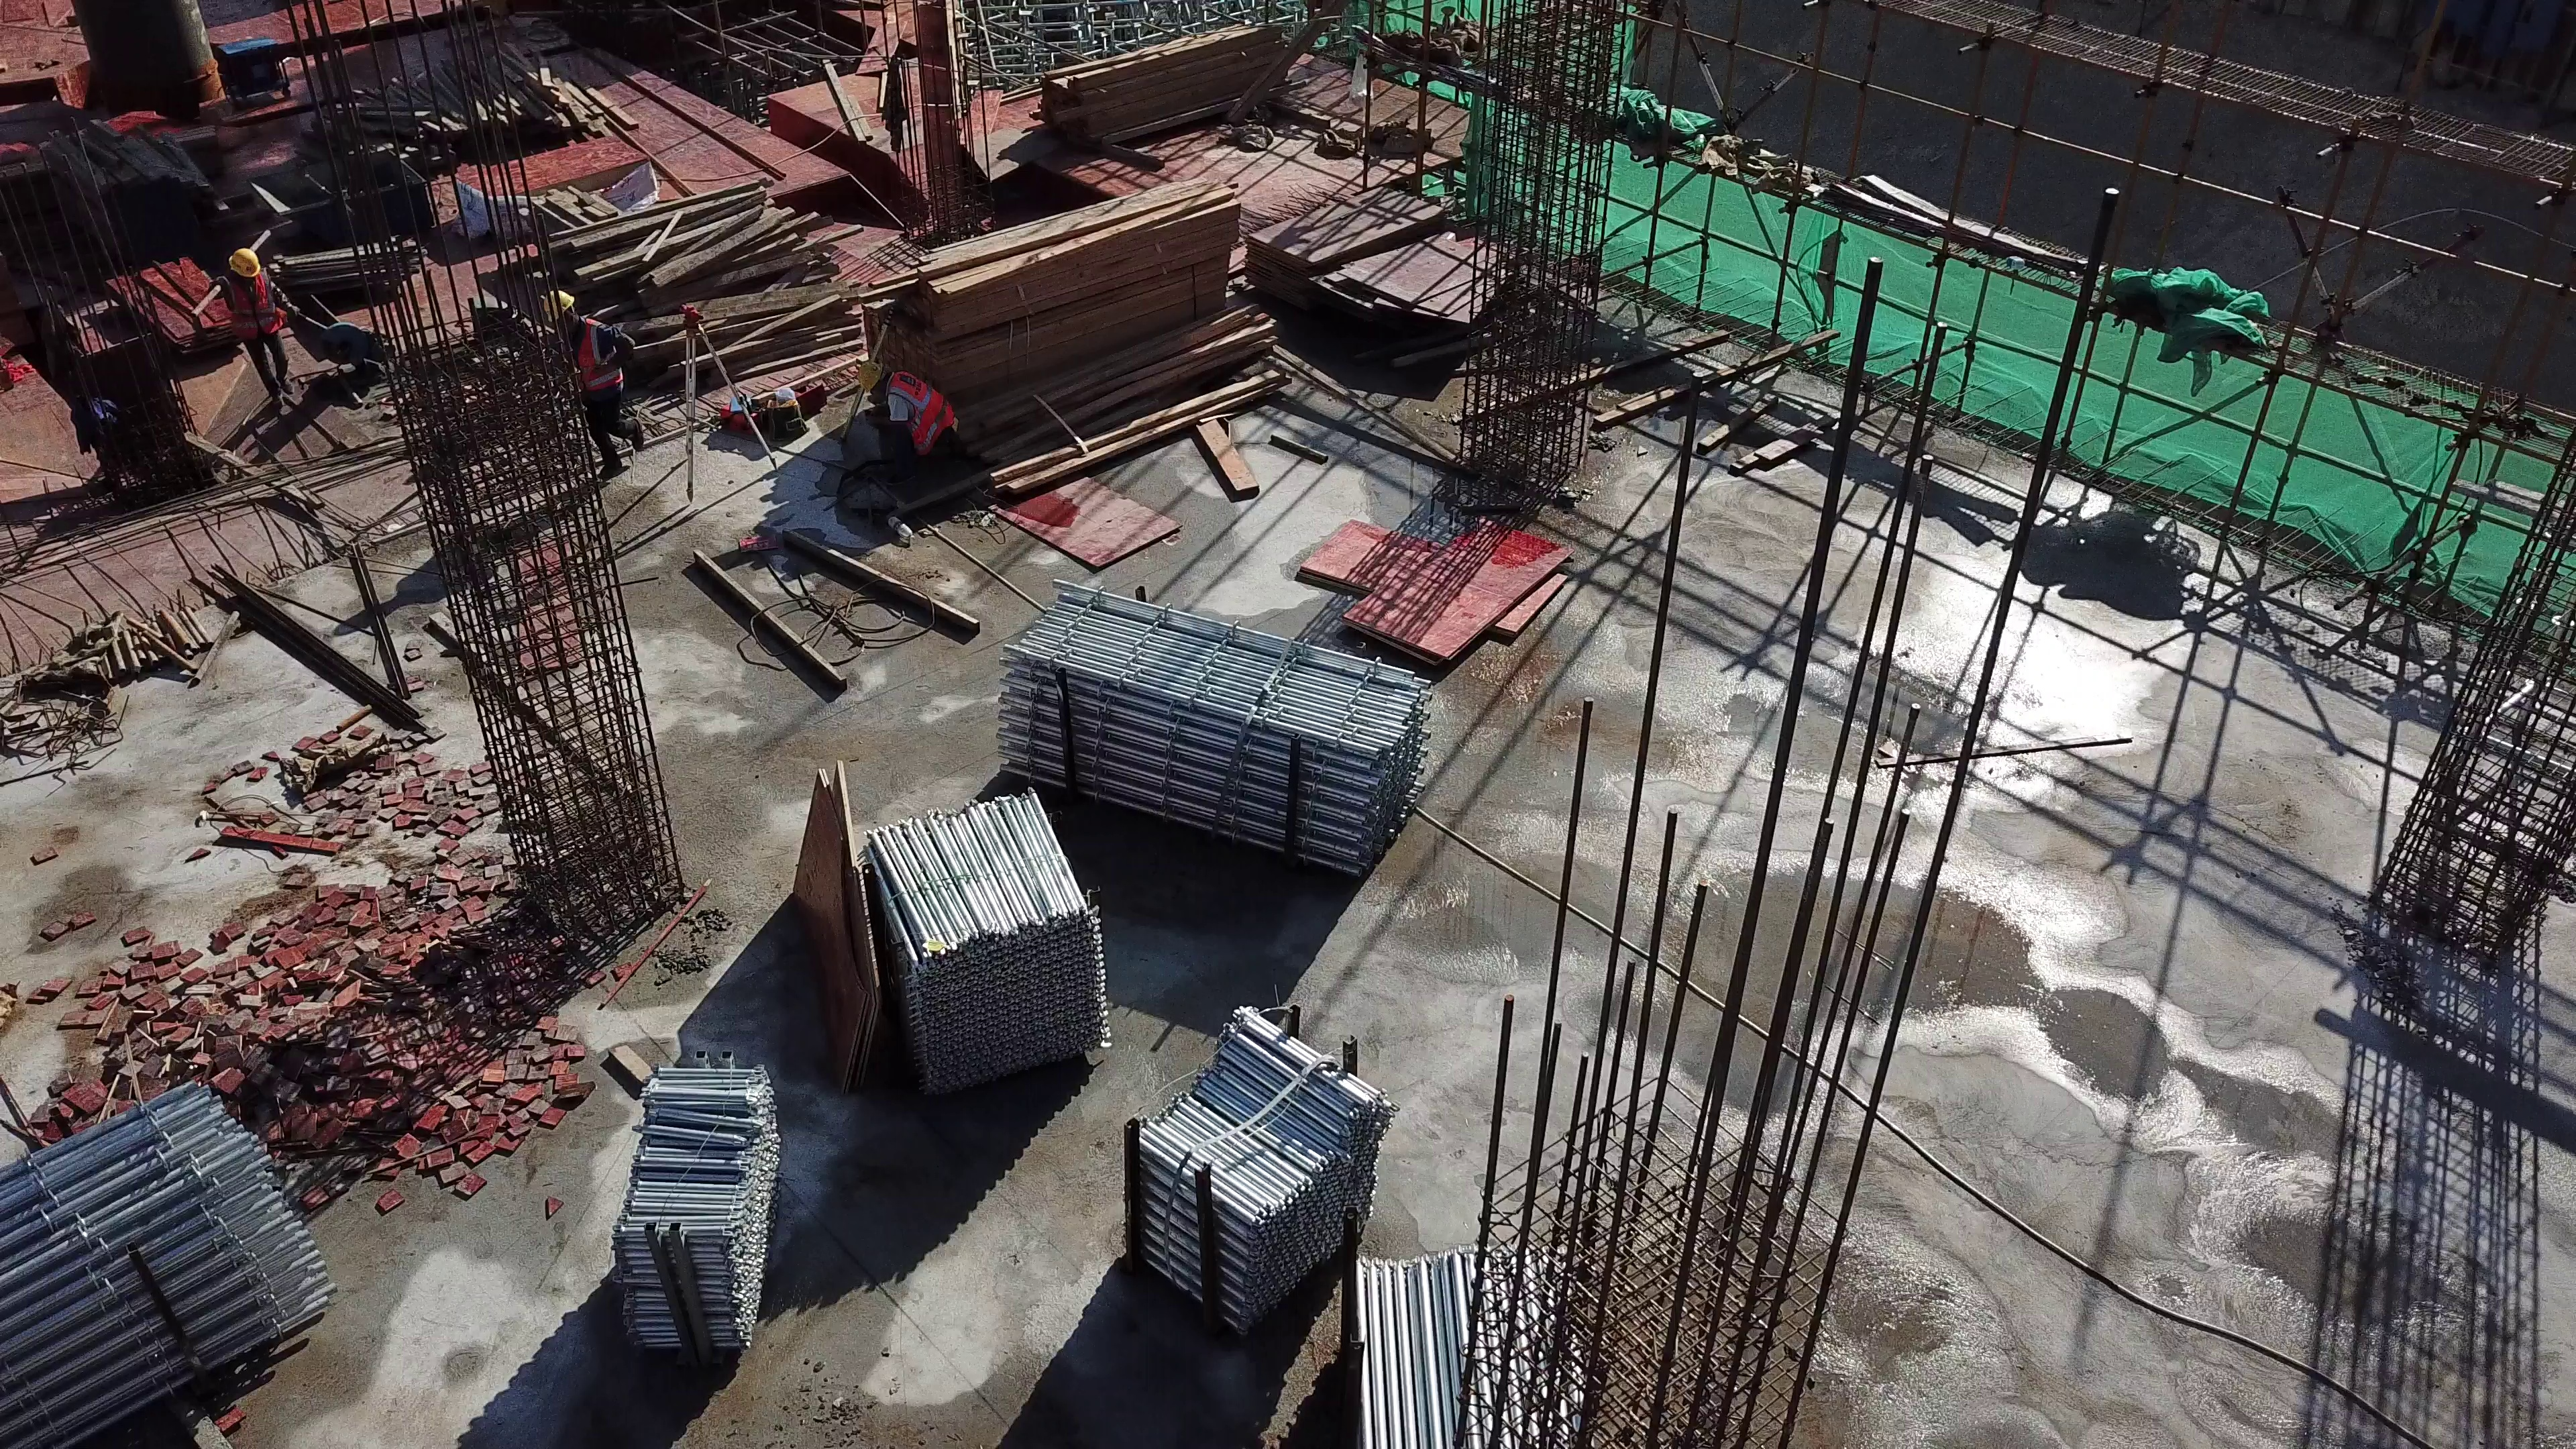board: (474, 124, 655, 216)
cutter: (316, 319, 382, 392)
helmet: (543, 288, 574, 324), (226, 249, 260, 279), (854, 358, 882, 392)
hopper: (239, 162, 432, 235)
person: (537, 286, 650, 475), (208, 250, 307, 405), (851, 360, 963, 480)
scaffold: (11, 1075, 335, 1449), (1002, 572, 1418, 854), (871, 790, 1110, 1088), (1141, 1008, 1360, 1299), (612, 1063, 782, 1351), (1355, 1236, 1573, 1449)
vest: (890, 372, 953, 452), (233, 272, 280, 338), (582, 317, 623, 388)
wood: (934, 187, 1241, 384), (1067, 25, 1288, 131)
